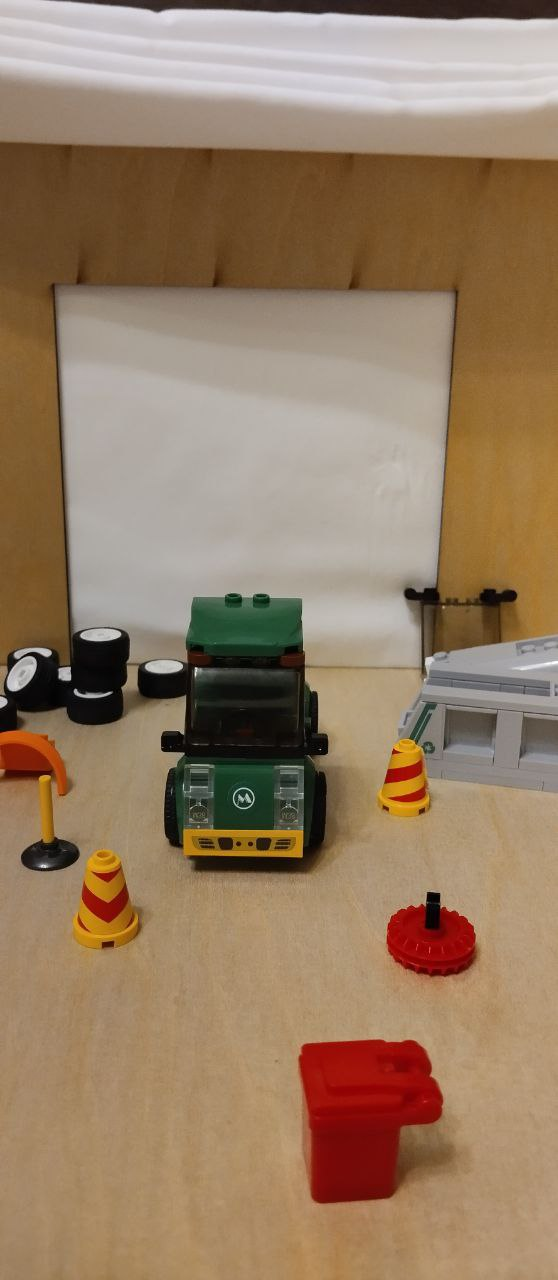Cone: (68, 845, 151, 958), (374, 732, 442, 824)
Object Red: (287, 1024, 450, 1212)
Truck: (151, 586, 348, 871)
